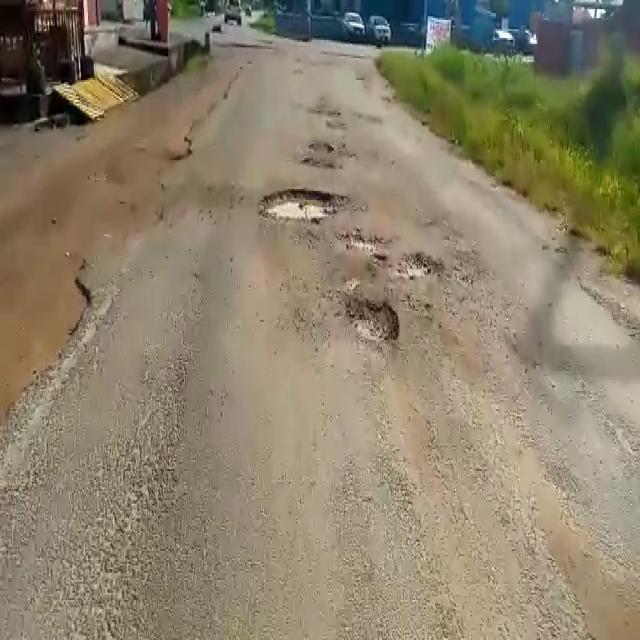pothole: (258, 186, 350, 225), (345, 294, 400, 345), (395, 249, 444, 282), (336, 230, 386, 258)
